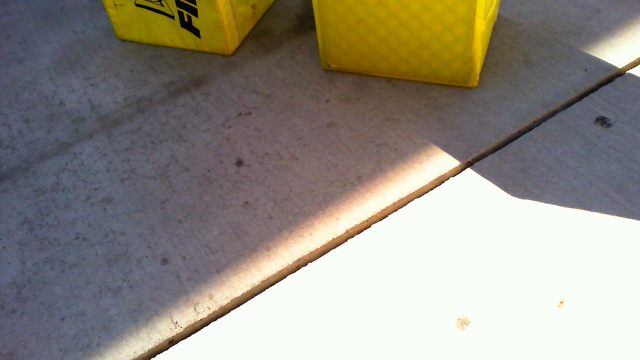cube: (310, 1, 501, 87), (95, 1, 276, 56)
